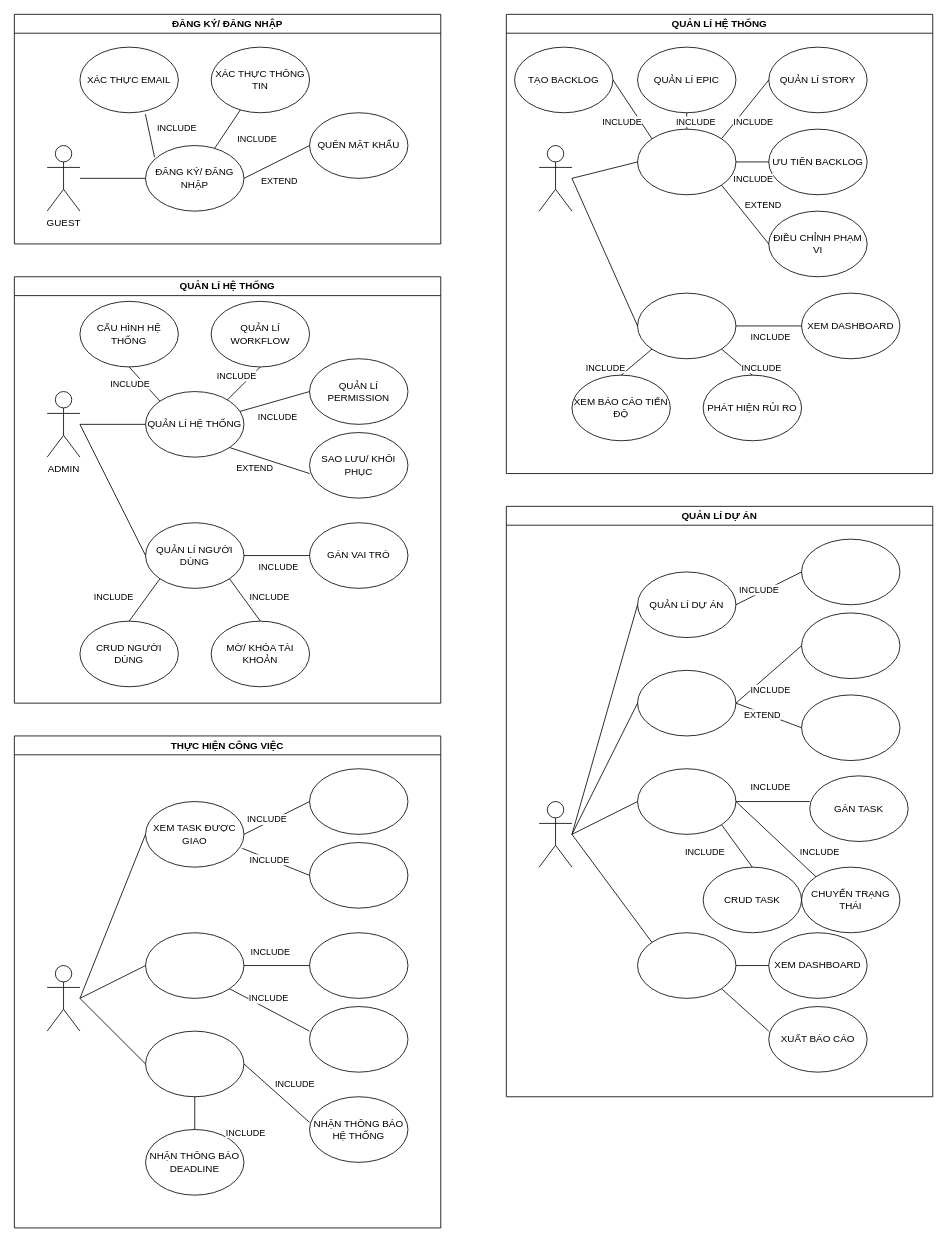
Image size: 947x1242. Some labels were removed from this diagram. Each missing label, with the centre of its shape:
"CRUD DỰ ÁN" belongs at (850,571).
"CẬP NHẬT TIẾN ĐỘ" belongs at (194,965).
"LOG WORK" belongs at (358,1039).
"LẬP KẾ HOẠCH SPRINT" belongs at (850,645).
"LỌC TASK" belongs at (358,801).
"MEMBER" belongs at (63,998).
"PM" belongs at (555,834).
"PO" belongs at (555,178).
"QUẢN LÍ PHẠM VI DỰ ÁN" belongs at (686,161).
"QUẢN LÍ SPRINT" belongs at (686,703).
"QUẢN LÍ TASK" belongs at (686,801).
"THAY ĐỔI TRẠNG THÁI" belongs at (358,965).
"THEO DÕI TIẾN ĐỘ TỔNG THỂ" belongs at (686,325).
"THEO DÕI, BÁO CÁO TIẾN ĐỘ" belongs at (686,965).
"TRAO ĐỔI, NHẬN THÔNG BÁO" belongs at (194,1063).
"XEM CHI TIẾT TASK" belongs at (358,875).
"ĐIỀU CHỈNH SPRINT" belongs at (850,727).
